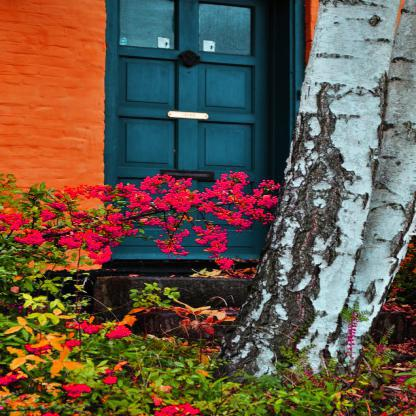door: (117, 0, 283, 272)
